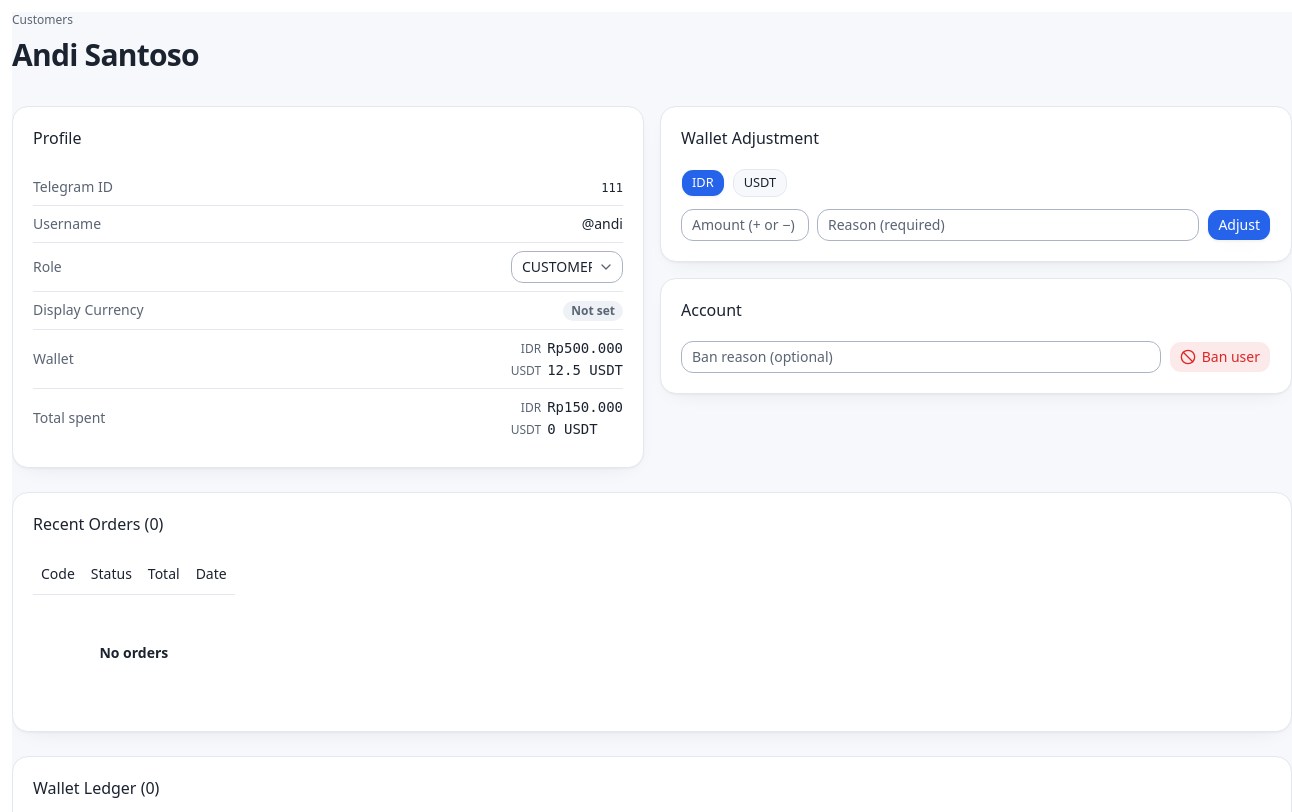
Test case: UserDetailPage — role change › shows a toast on a failed role change
Check: the heading "Andi Santoso" is shown, box top-left (12, 36), bottom-right (199, 74)
Click the dropdown.
click(567, 266)  # box top-left (511, 250), bottom-right (623, 282)
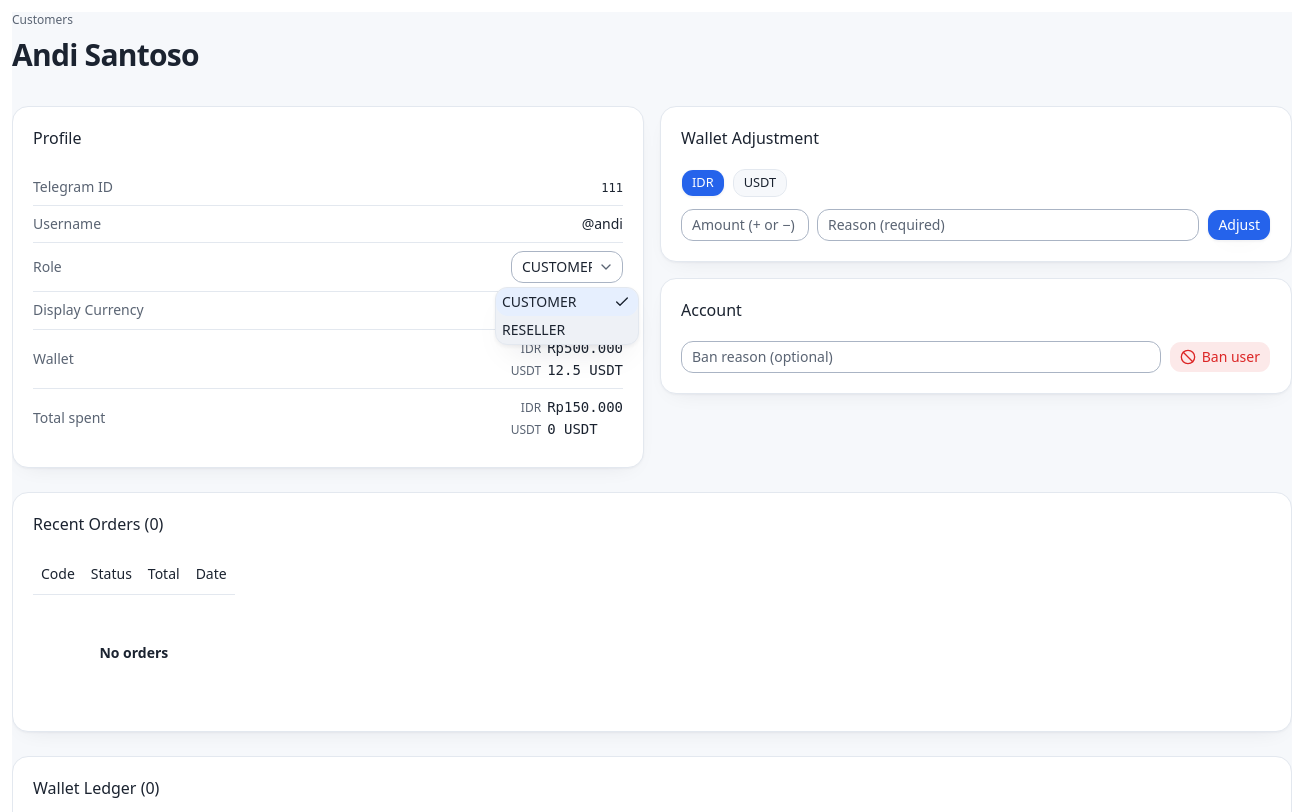
Check: the option "RESELLER" is shown
Click the option "RESELLER".
click(534, 330)  # box top-left (502, 320), bottom-right (565, 339)
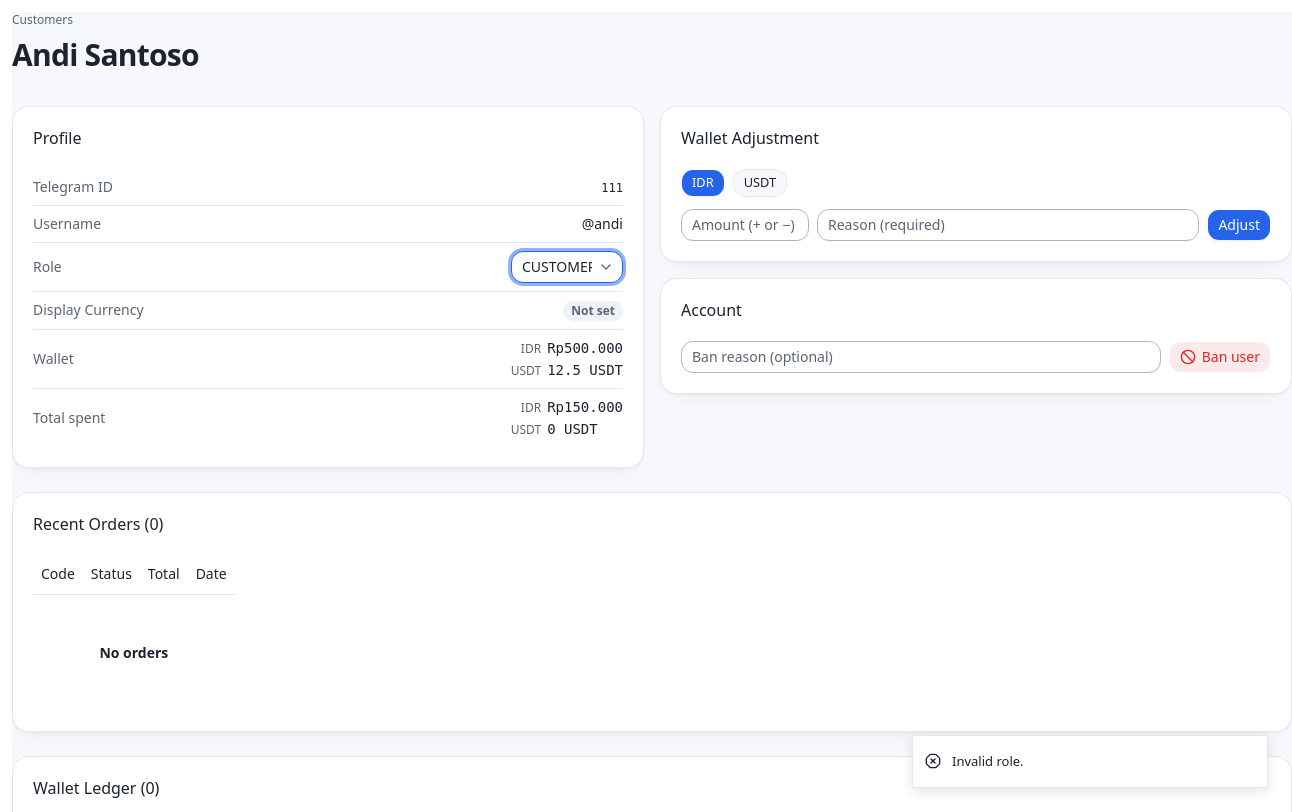
Check: the text "Invalid role." is shown, box top-left (952, 752), bottom-right (1024, 771)
